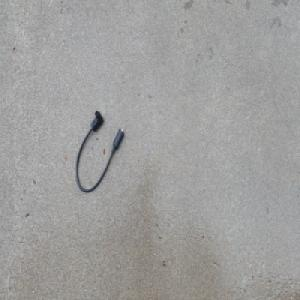Wire: (75, 109, 125, 195)
